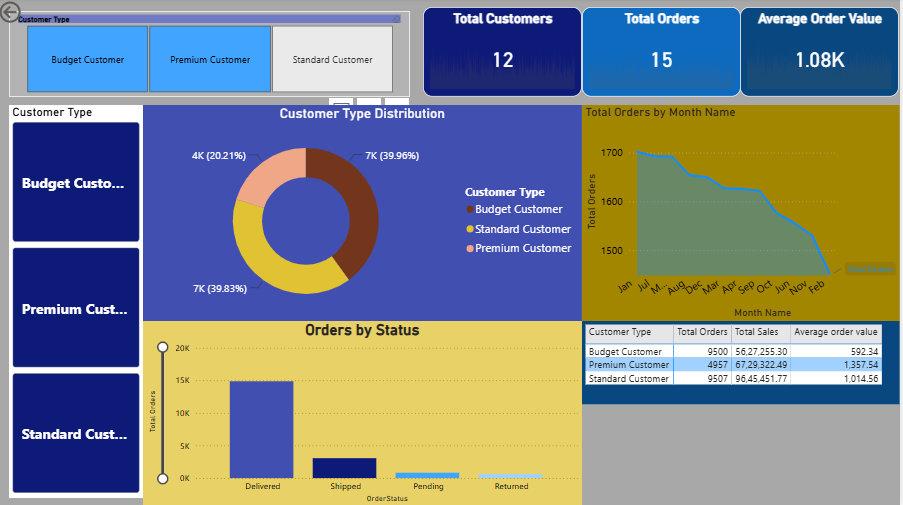

The page's visual inventory and layout, read from the dashboard file:
{"tool":"powerbi","page":{"name":"Customer Insights","canvas":[1280,720],"ordinal":3},"visuals":[{"type":"kpi","title":"Total Customers","fields":{"Indicator":["Measure Table.Total Customers"],"TrendLine":["Customer Master.OrderDate"]},"box":[605,13.3,225,126.7],"z":0},{"type":"kpi","title":"Total Orders","fields":{"TrendLine":["Customer Master.OrderDate"],"Indicator":["Measure Table.Total Orders"]},"box":[830,13.3,225,126.7],"z":1},{"type":"kpi","title":"Average Order Value","fields":{"TrendLine":["Customer Master.OrderDate"],"Indicator":["Measure Table.Average order value"]},"box":[1055,13.3,225,126.7],"z":2},{"type":"slicer","fields":{"Values":["Customer Master.Customer Type"]},"box":[18.3,18.3,568.3,121.7],"z":3},{"type":"advancedSlicerVisual","fields":{"Values":["Customer Master.Customer Type"]},"box":[18.3,151.7,190,556.7],"z":4},{"type":"donutChart","title":"Customer Type Distribution","fields":{"Category":["Customer Master.Customer Type"],"Y":["Measure Table.Total Customers"]},"box":[208.3,151.7,621.7,306.7],"z":5},{"type":"clusteredColumnChart","title":"Orders by Status","fields":{"Category":["Fact Sales.OrderStatus"],"Y":["Measure Table.Total Orders"]},"box":[208.3,458.3,621.7,261.7],"z":6},{"type":"lineChart","fields":{"Category":["Date Master.Month Name"],"Y":["Measure Table.Total Orders"]},"box":[830,151.7,450,306.7],"z":7},{"type":"pivotTable","fields":{"Rows":["Customer Master.Customer Type"],"Values":["Measure Table.Total Orders","Measure Table.Total Sales","Measure Table.Average order value"]},"box":[830,458.3,450,118.3],"z":8},{"type":"actionButton","box":[0,0,100,40],"z":9}]}

Visuals, with their boxes in screenshot pixels (x1, y1, x2, y2), scaled from the page's 1280x720 canvas onto the 903x505 screenshot:
"Total Customers" kpi: box=[427, 9, 586, 98]
"Total Orders" kpi: box=[586, 9, 744, 98]
"Average Order Value" kpi: box=[744, 9, 902, 98]
slicer - Customer Master.Customer Type: box=[13, 13, 414, 98]
advancedSlicerVisual - Customer Master.Customer Type: box=[13, 106, 147, 497]
"Customer Type Distribution" donutChart: box=[147, 106, 586, 322]
"Orders by Status" clusteredColumnChart: box=[147, 321, 586, 504]
lineChart - Date Master.Month Name x Measure Table.Total Orders: box=[586, 106, 902, 322]
pivotTable - Customer Master.Customer Type x Measure Table.Total Orders: box=[586, 321, 902, 404]
actionButton: box=[0, 0, 71, 28]
